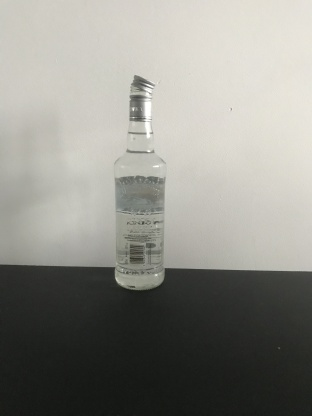nakretka: (127, 72, 156, 122)
